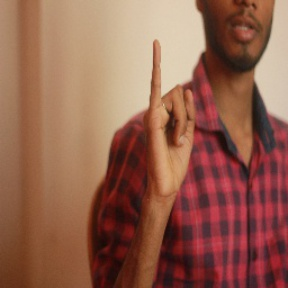I: (139, 38, 201, 193)
